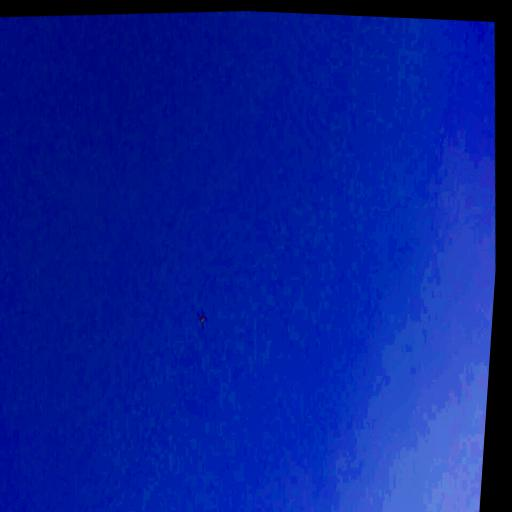drones: (194, 307, 210, 331)
